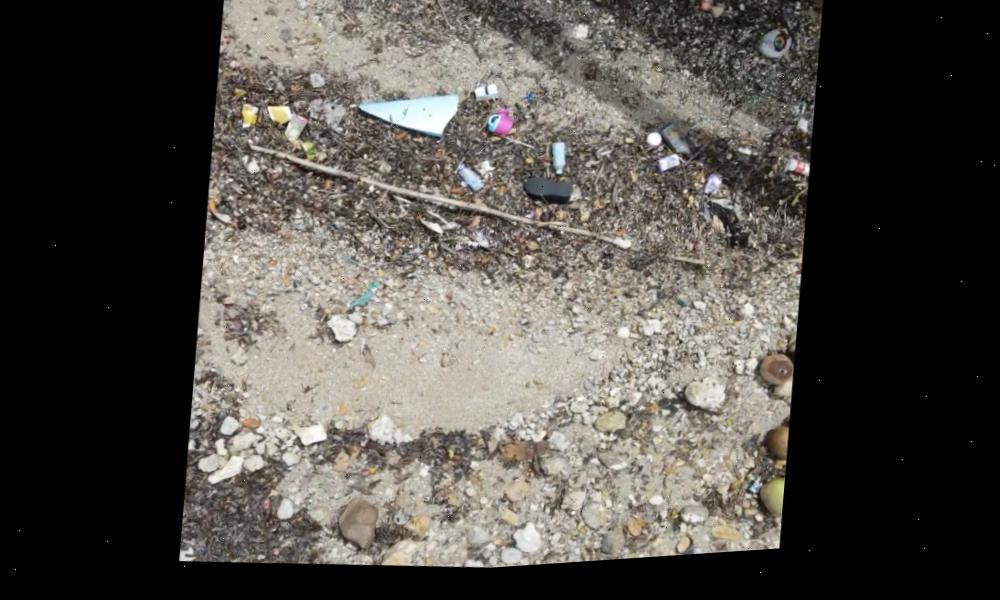carton: (233, 95, 262, 137), (264, 101, 293, 138), (649, 160, 686, 187), (702, 178, 728, 206)
plastic bottle: (453, 169, 489, 200), (545, 147, 572, 185), (786, 169, 810, 188)
plastic container: (277, 113, 308, 148)
